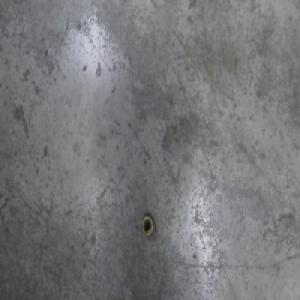Nut: (140, 213, 154, 240)
